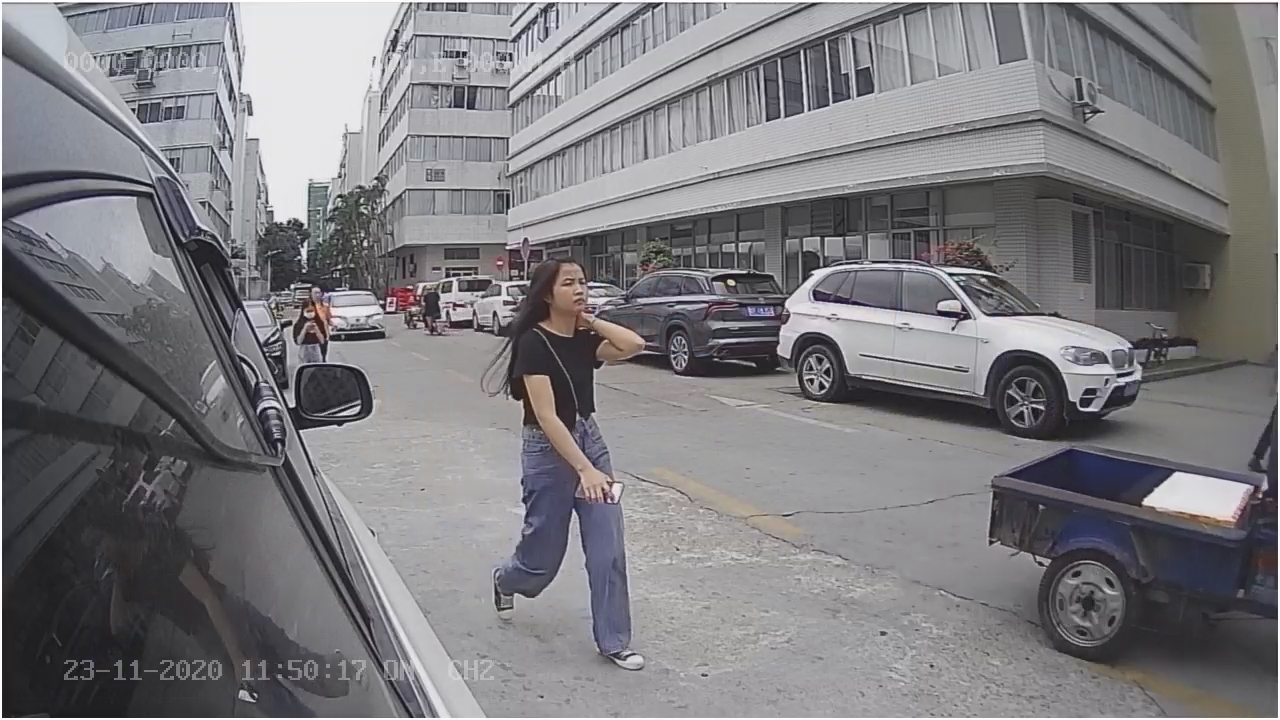person: (494, 247, 649, 670)
